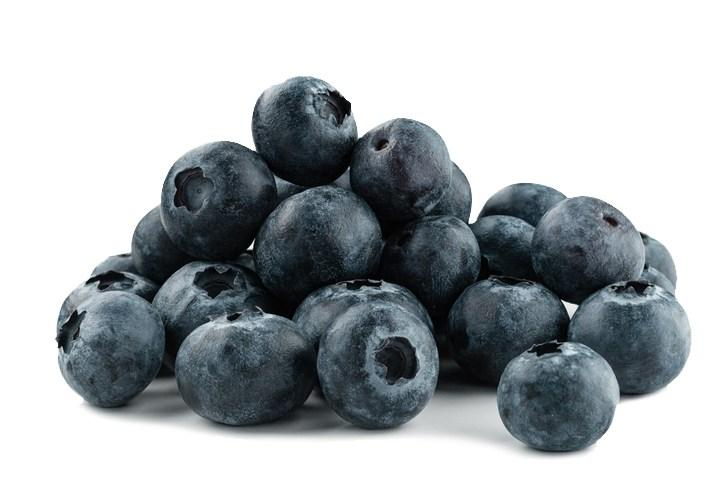bluebarry: (54, 74, 691, 451), (173, 305, 317, 426), (315, 296, 440, 429), (566, 278, 691, 395), (495, 339, 620, 452), (55, 286, 165, 408), (250, 74, 358, 187)
